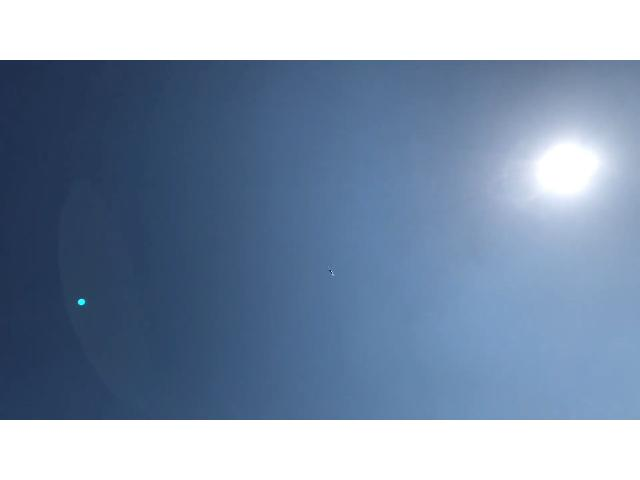Anti-Drone: (318, 255, 346, 283)
